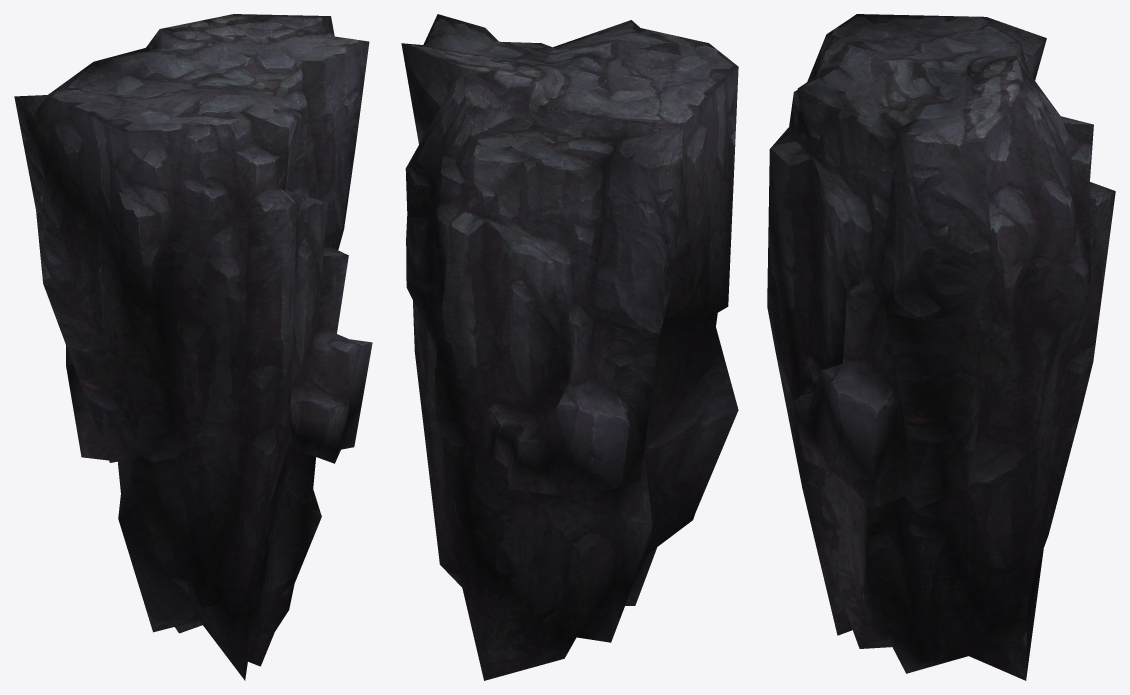
File: ruisi_shanti02.FBX
3 views of the same model, side by side, from view 1: azimuth 30°, elevation 25°; view 2: azimuth 150°, elevation 25°; view 3: azimuth 270°, elevation 25° (orthographic).
Parts seen in each view (by area): view 1: ruisi_shanti02; view 2: ruisi_shanti02; view 3: ruisi_shanti02.
Boxes of the visible parts, <box> form: ruisi_shanti02: <box>14,14,372,680</box>; ruisi_shanti02: <box>401,14,738,680</box>; ruisi_shanti02: <box>767,14,1115,680</box>.
Size of the model in its own units: 172 by 340 by 179.
